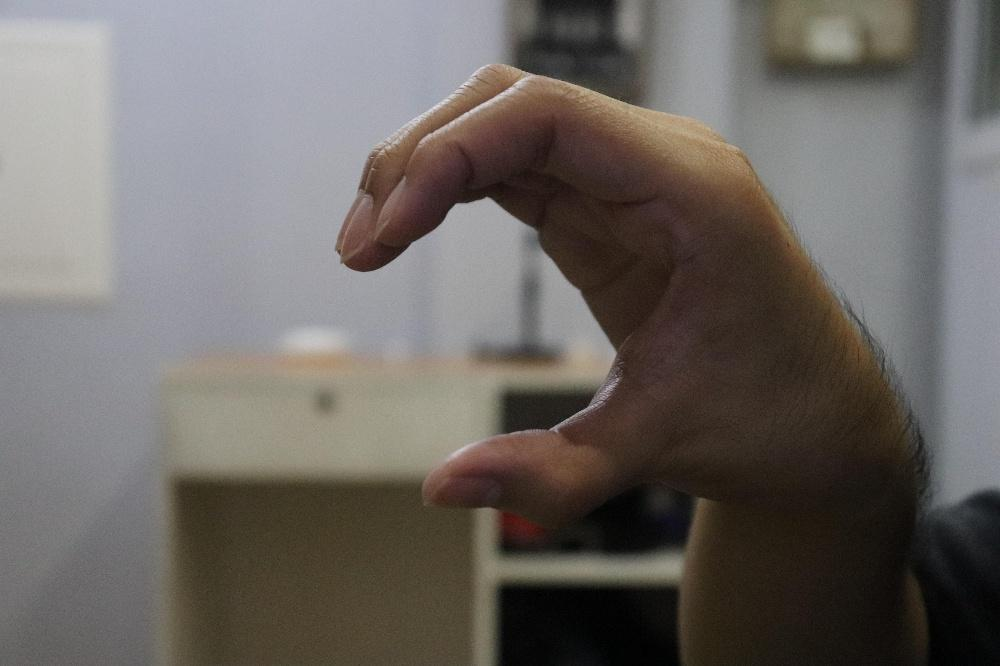c: (334, 58, 915, 530)
